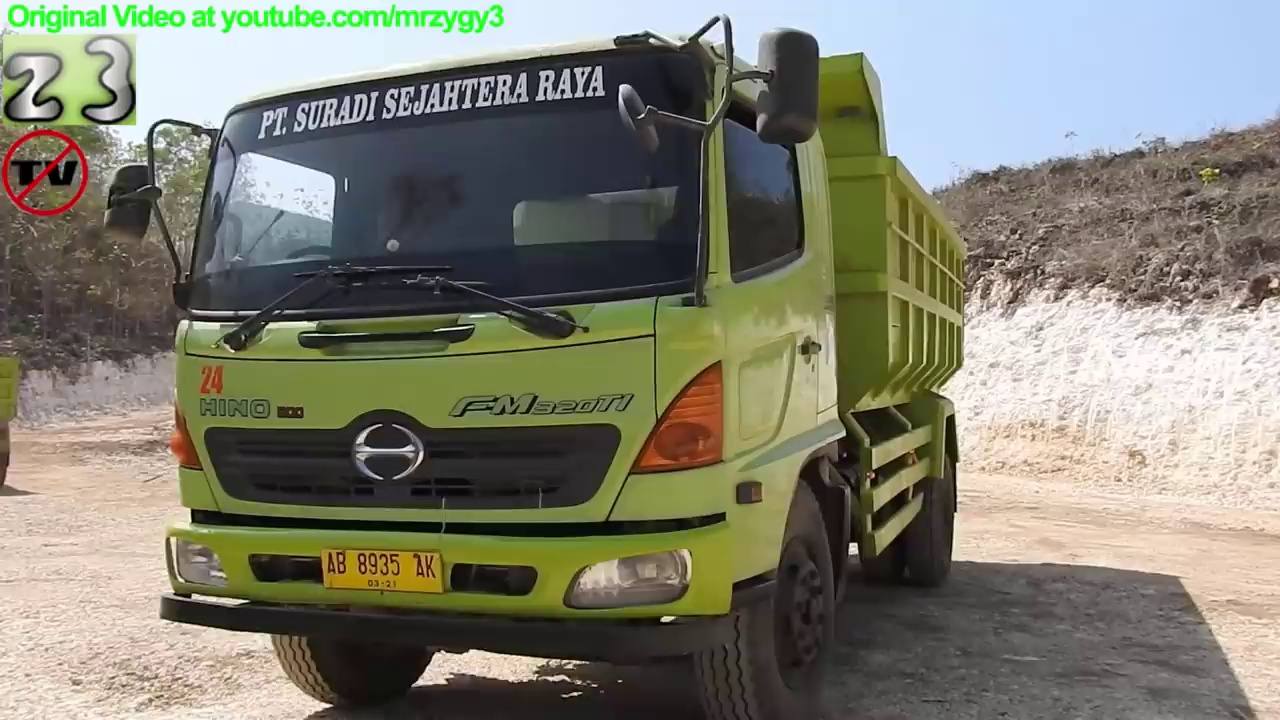truck: (93, 7, 979, 720), (1, 334, 26, 499)
